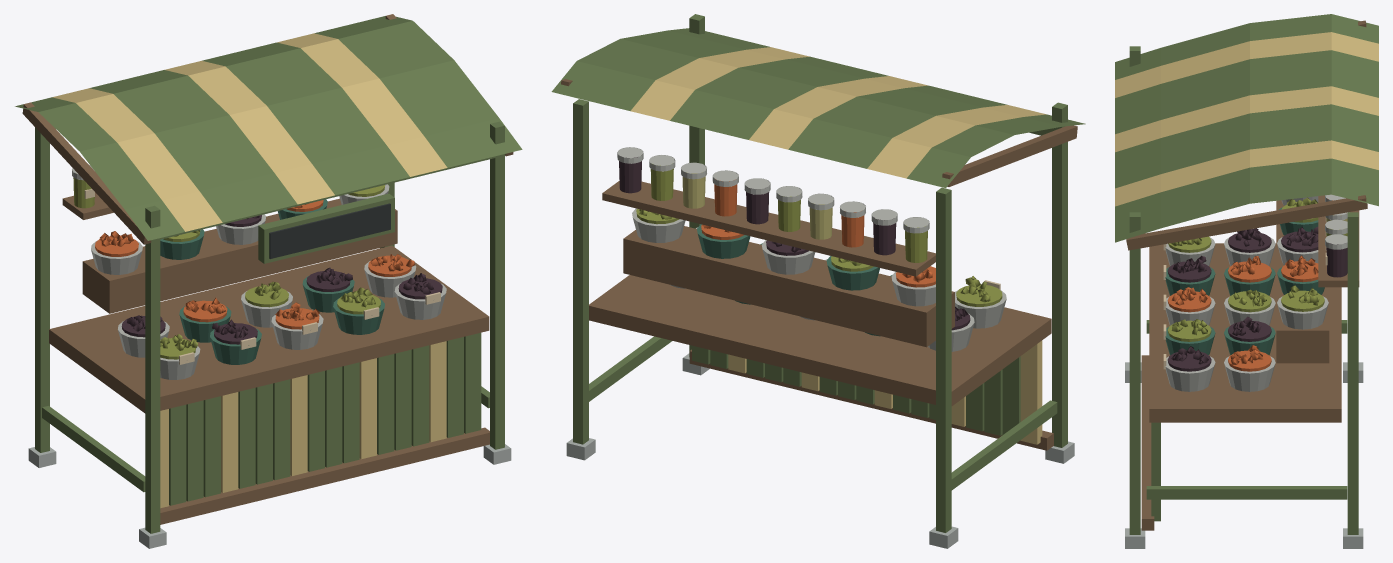
File: olive-mid.glb
The picture shows the model from 3 angles, left to right: view 1: azimuth 30°, elevation 25°; view 2: azimuth 150°, elevation 25°; view 3: azimuth 270°, elevation 25°; orthographic projection. The views are drawn at different scales.
Parts seen in each view (by area): view 1: Olive Market Stall; view 2: Olive Market Stall; view 3: Olive Market Stall.
Part boxes in pixels (<box>): Olive Market Stall: <box>15,14,522,548</box>; Olive Market Stall: <box>551,14,1085,548</box>; Olive Market Stall: <box>1115,14,1378,548</box>.
Size of the model in its own units: 2.98 by 2.75 by 1.84.
